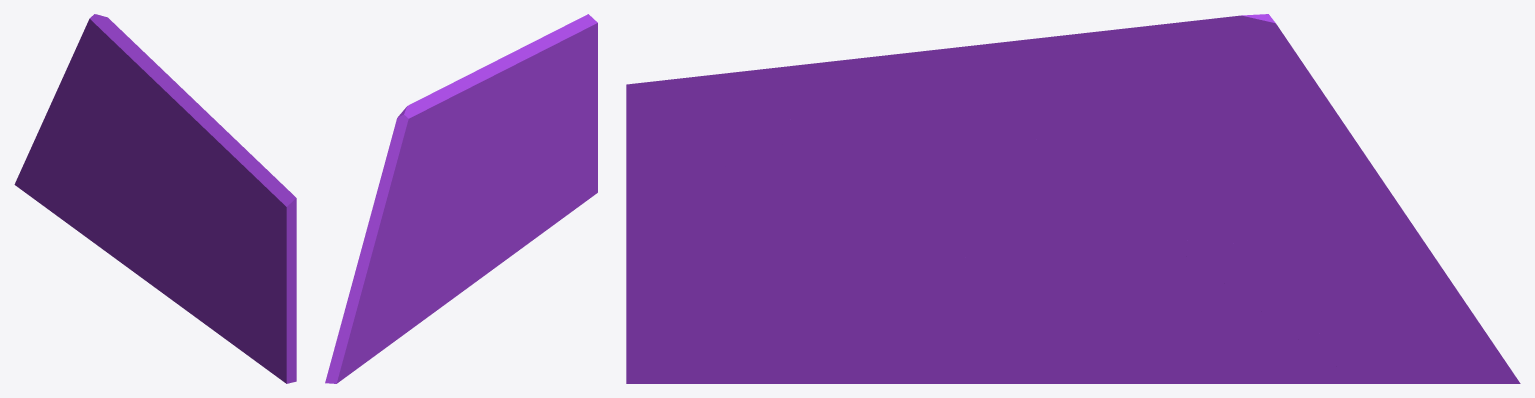
File: Glass_110_1_chunks.fbx
3 renders of one model, left to right at view 1: azimuth 30°, elevation 25°; view 2: azimuth 150°, elevation 25°; view 3: azimuth 270°, elevation 25°, orthographic. The views are drawn at different scales.
Visible parts, largest first — view 1: Glass_110_1_10, Glass_110_1_8, Glass_110_1_3, Glass_110_1_17, Glass_110_1_2, Glass_110_1_11, Glass_110_1_6, Glass_110_1_18, Glass_110_1_4, Glass_110_1_1, Glass_110_1_13, Glass_110_1_16 (+6 smaller); view 2: Glass_110_1_10, Glass_110_1_3, Glass_110_1_8, Glass_110_1_2, Glass_110_1_13, Glass_110_1_6, Glass_110_1_11, Glass_110_1_18, Glass_110_1_4, Glass_110_1_17, Glass_110_1_1, Glass_110_1_16 (+6 smaller); view 3: Glass_110_1_9, Glass_110_1_10, Glass_110_1_3, Glass_110_1_6, Glass_110_1_4, Glass_110_1_8, Glass_110_1_11, Glass_110_1_13, Glass_110_1_2, Glass_110_1_12, Glass_110_1_17, Glass_110_1_7 (+3 smaller).
Part boxes in pixels (x1,y1,x2,y2): Glass_110_1_10: (154,91,256,222); Glass_110_1_8: (160,182,250,357); Glass_110_1_3: (14,85,77,219); Glass_110_1_17: (257,171,296,307); Glass_110_1_2: (62,71,156,184); Glass_110_1_11: (113,32,184,147); Glass_110_1_6: (145,225,222,336); Glass_110_1_18: (212,160,267,267); Glass_110_1_4: (78,189,151,279); Glass_110_1_1: (62,155,140,231); Glass_110_1_13: (66,14,122,97); Glass_110_1_16: (246,275,293,383); Glass_110_1_10: (470,33,554,176); Glass_110_1_3: (325,211,396,383); Glass_110_1_8: (477,143,563,237); Glass_110_1_2: (376,158,472,248); Glass_110_1_13: (370,98,432,215); Glass_110_1_6: (462,197,536,291); Glass_110_1_11: (422,68,486,150); Glass_110_1_18: (526,28,570,167); Glass_110_1_4: (398,218,468,338); Glass_110_1_17: (561,14,597,119); Glass_110_1_1: (382,207,457,349); Glass_110_1_16: (559,116,597,192); Glass_110_1_9: (626,137,872,383); Glass_110_1_10: (754,43,1053,211); Glass_110_1_3: (1271,156,1520,383); Glass_110_1_6: (819,257,1097,383); Glass_110_1_4: (1080,262,1358,383); Glass_110_1_8: (757,207,1019,383); Glass_110_1_11: (991,21,1191,157); Glass_110_1_13: (1182,14,1365,165); Glass_110_1_2: (1092,158,1346,245); Glass_110_1_12: (1045,102,1280,185); Glass_110_1_17: (626,74,717,203); Glass_110_1_7: (964,178,1125,279).
Bounding box in the file's own units: 27.2 × 594 × 1308.
